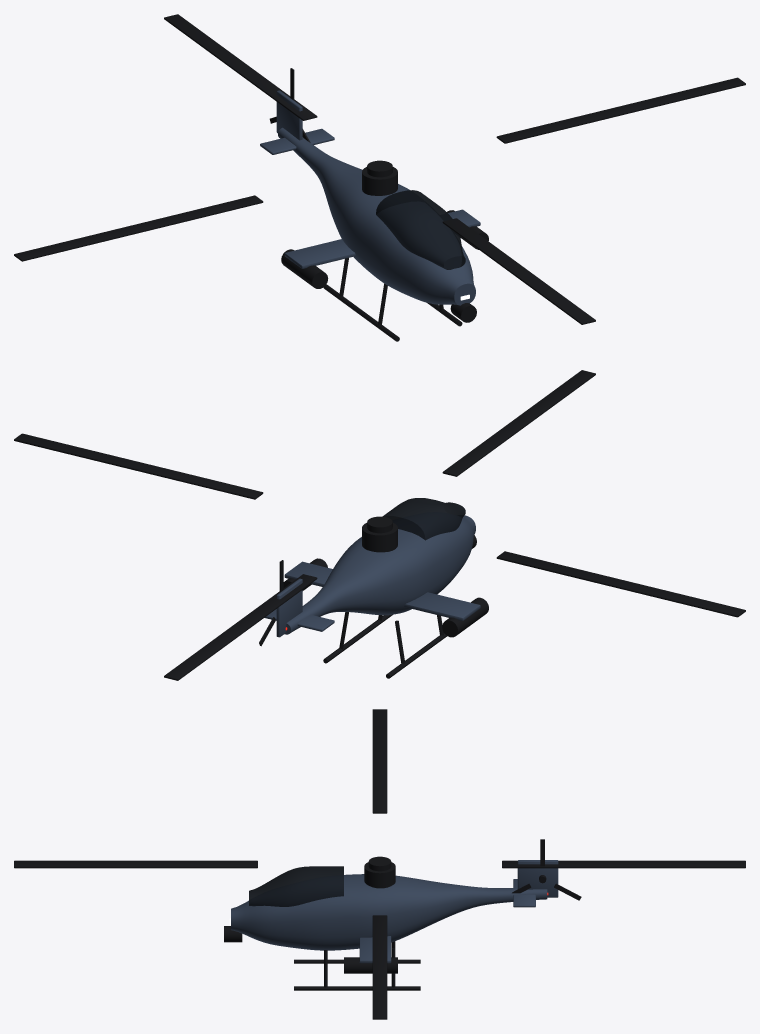
Rendered from rift-helicopter.glb.
The picture shows the model from 3 angles, top to bottom: view 1: azimuth 30°, elevation 25°; view 2: azimuth 150°, elevation 25°; view 3: azimuth 270°, elevation 25°; orthographic projection. The views are drawn at different scales.
Parts seen in each view (by area): view 1: Body, Rotor; view 2: Body, Rotor; view 3: Body, Rotor.
Part boxes in pixels (<box>): Body: <box>260,90,488,341</box>; Rotor: <box>14,14,745,324</box>; Body: <box>264,498,488,678</box>; Rotor: <box>14,370,745,680</box>; Body: <box>224,860,558,990</box>; Rotor: <box>14,709,745,1019</box>.
Bounding box in the file's own units: 16.2 × 3.42 × 16.2.
